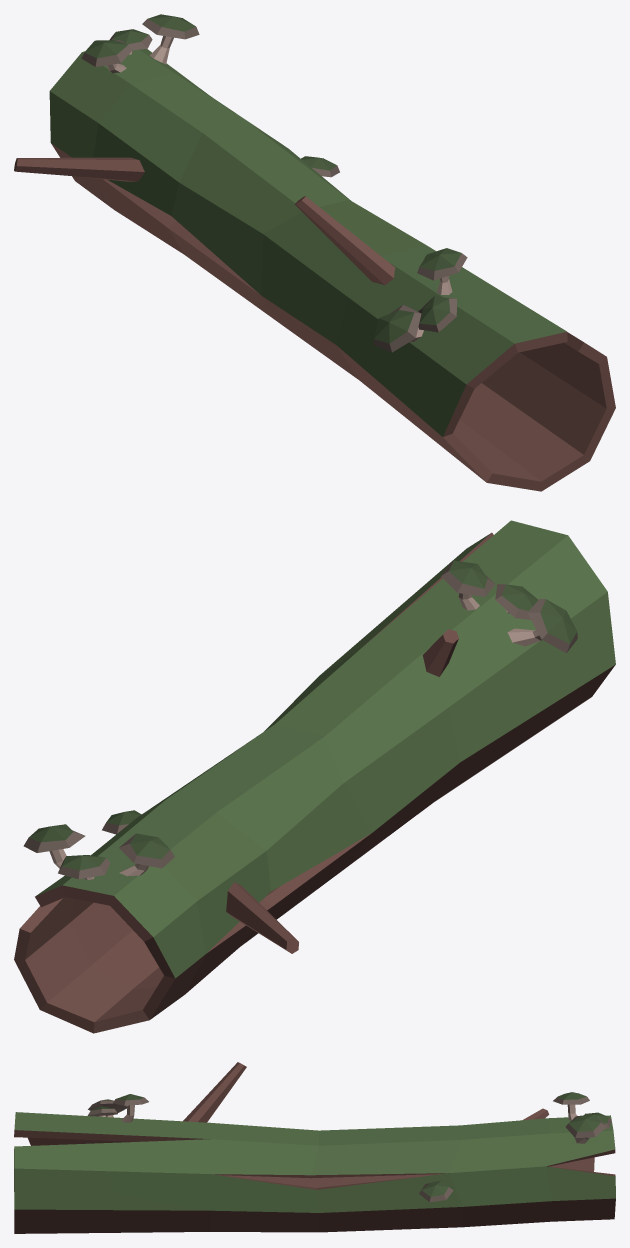
The model's file is wood-log.glb.
3 renders of one model, top to bottom at view 1: azimuth 30°, elevation 25°; view 2: azimuth 150°, elevation 25°; view 3: azimuth 270°, elevation 25°, orthographic. The views are drawn at different scales.
Visible parts, largest first — view 1: WoodLog_Moss; view 2: WoodLog_Moss; view 3: WoodLog_Moss.
Part boxes in pixels (bbox=[...]): WoodLog_Moss: bbox=[14, 14, 615, 491]; WoodLog_Moss: bbox=[14, 520, 615, 1033]; WoodLog_Moss: bbox=[14, 1062, 615, 1233].
Size of the model in its own units: 0.8966 by 0.6883 by 2.67.
1 material, 1 textured.
